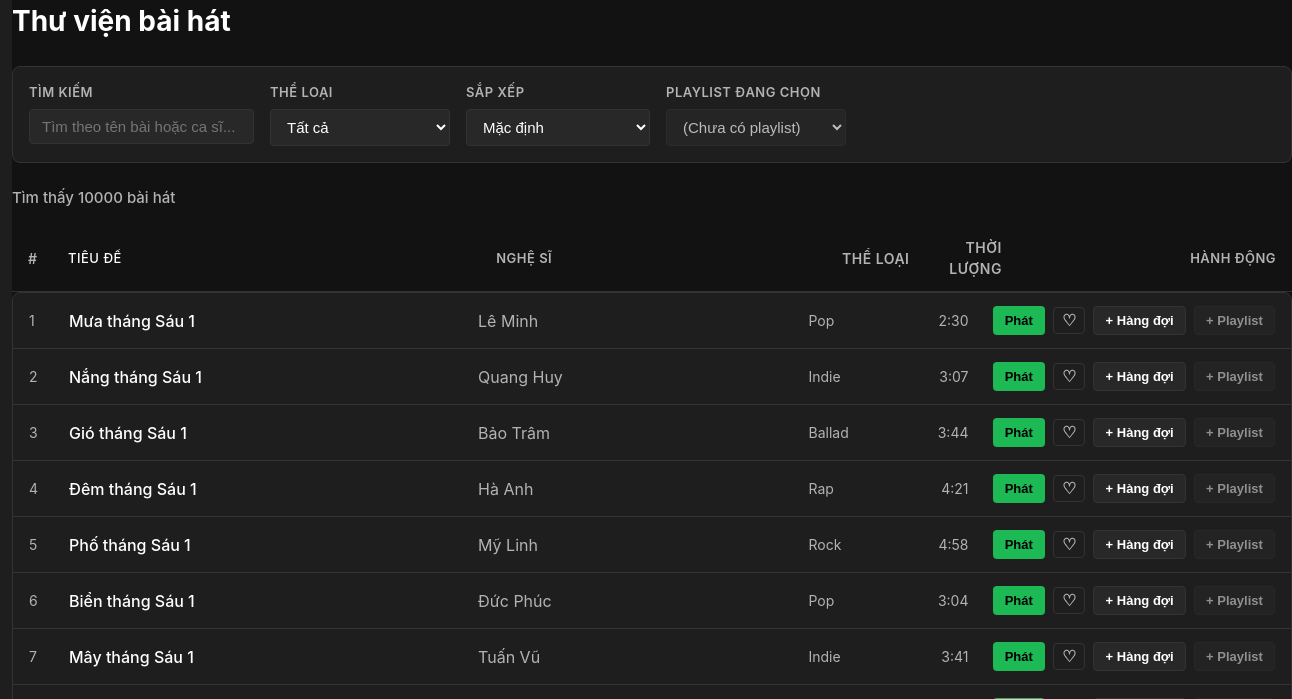
LibraryPage component › lọc theo thể loại Rock khi đang tìm kiếm "mưa" cho ra 250 bài hát
In the field labelled "Tìm kiếm": (142, 126) [29,109,254,144], type "mưa"
Wait 300 ms
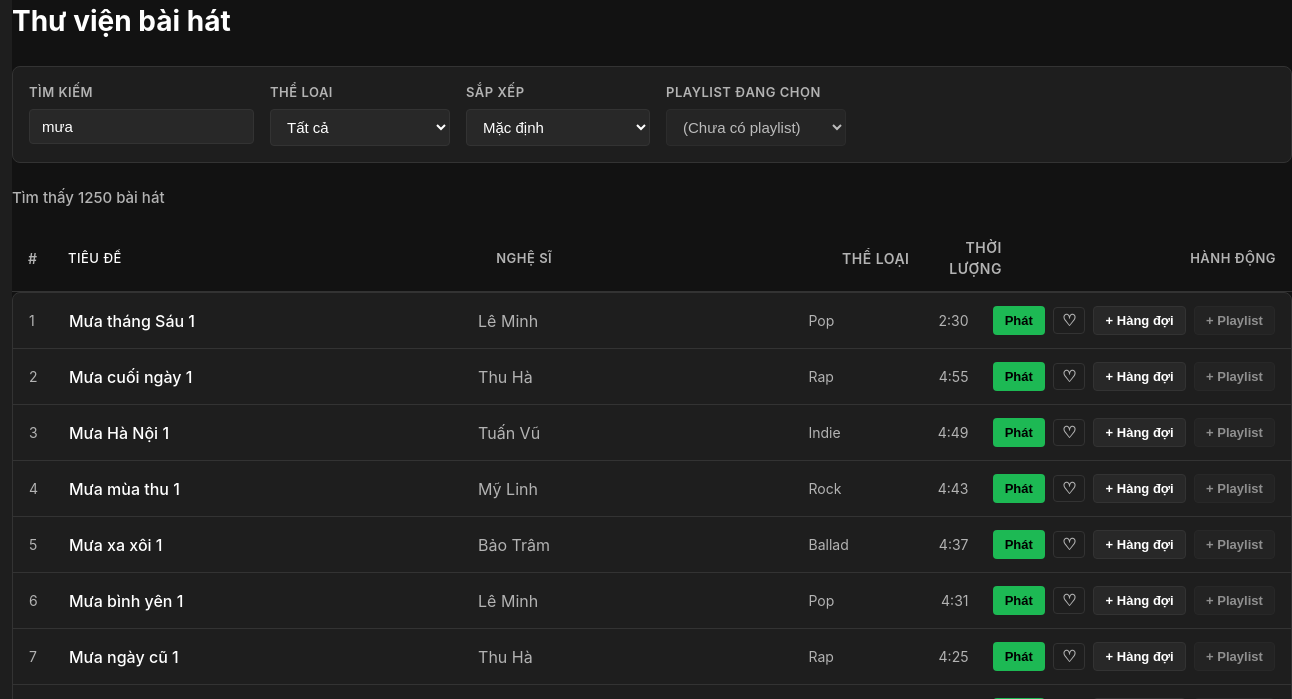
Select "Rock" in the dropdown labelled "Thể loại": (360, 127) [270,109,450,146]
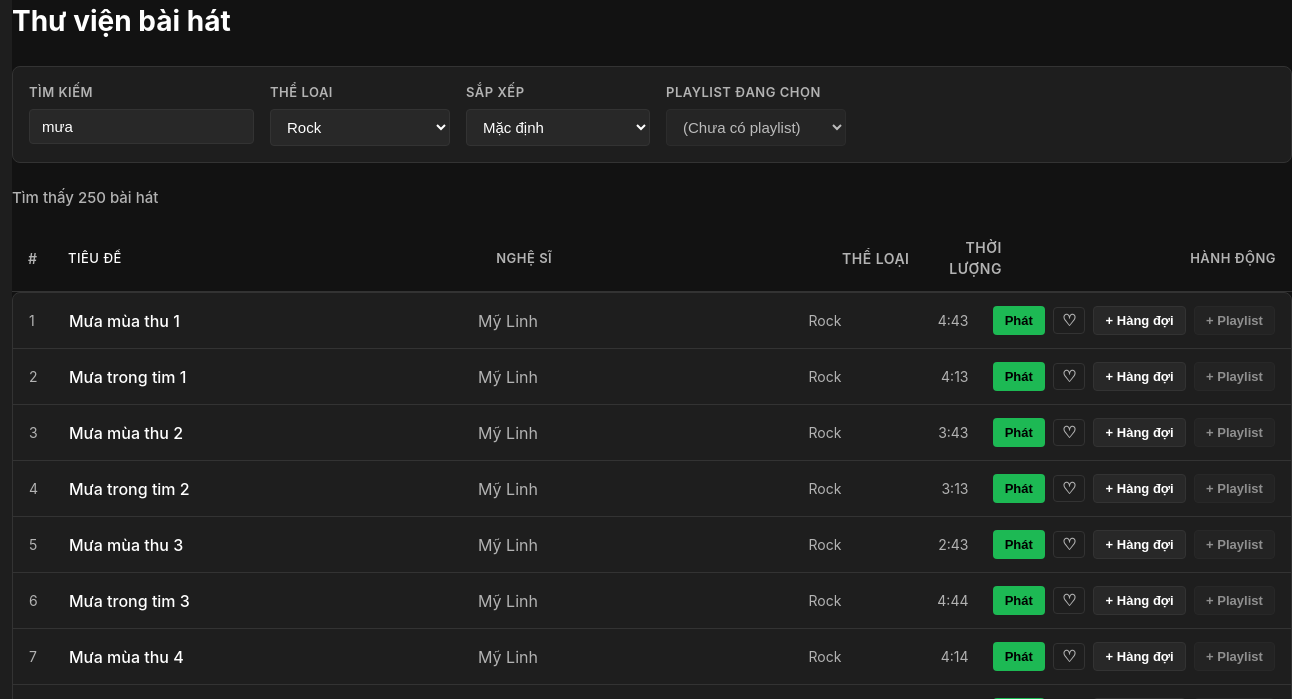
Now the text "Tìm thấy 250 bài hát" is shown, box [12,188,158,207]
